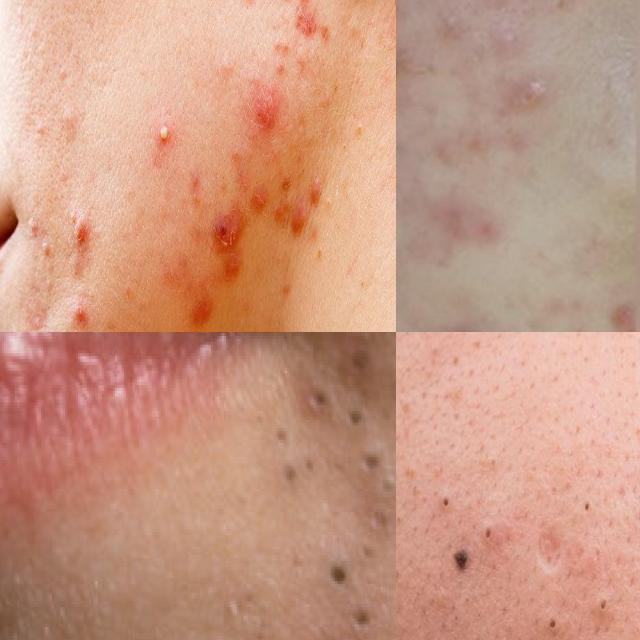acne_scars: (538, 509, 562, 576), (418, 332, 452, 354)
comedone: (330, 112, 370, 175), (478, 508, 512, 559), (428, 474, 461, 526), (570, 488, 604, 530), (594, 581, 622, 627), (40, 245, 62, 303), (269, 28, 299, 70), (538, 598, 562, 640)
crystanlline: (213, 208, 242, 261)
folliculitis: (146, 104, 184, 166)
papule: (252, 183, 310, 247), (250, 89, 286, 150)
pustule: (64, 217, 106, 270), (65, 294, 113, 330)
